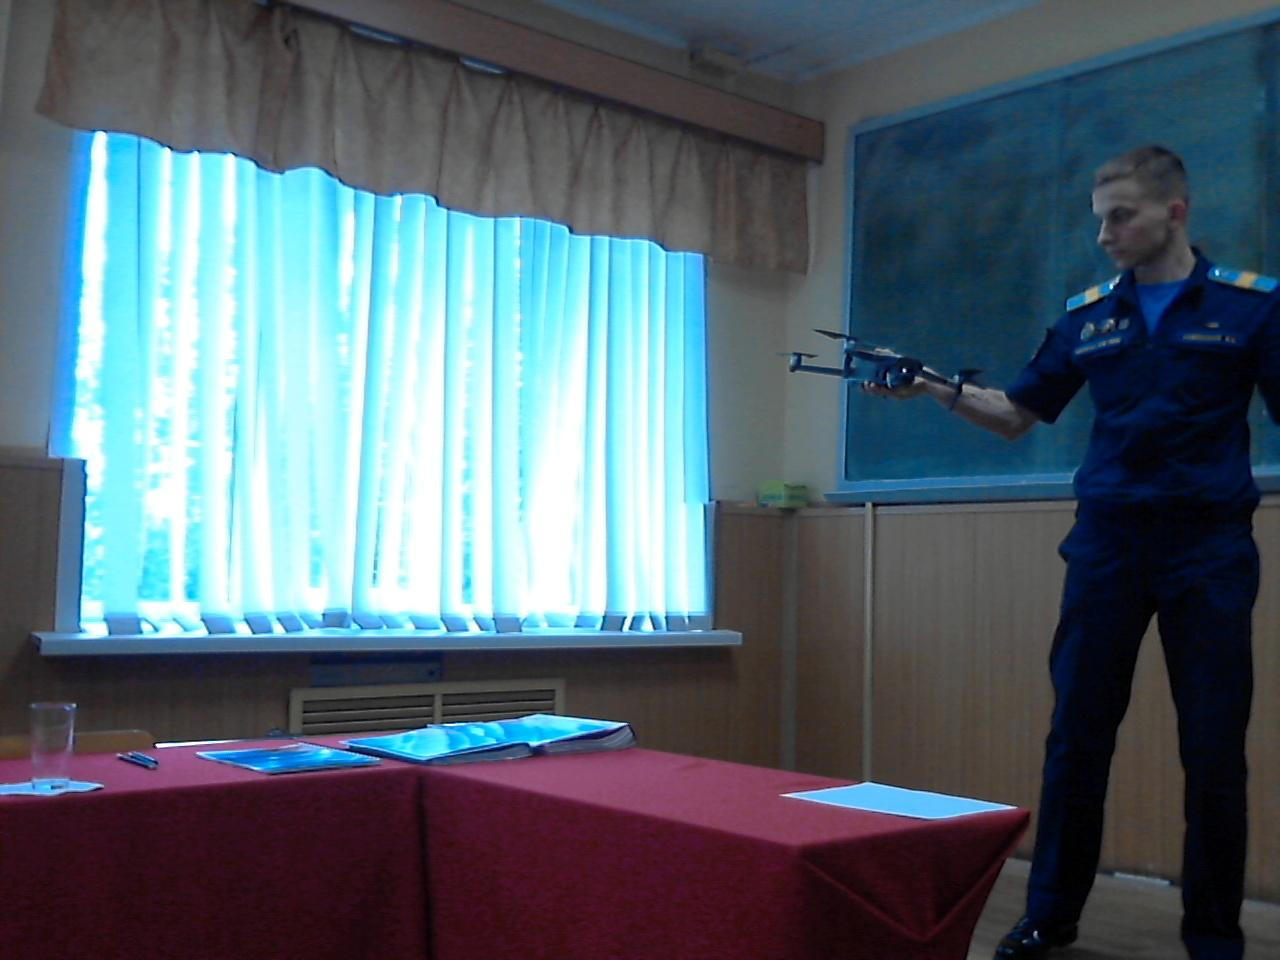drone: (750, 296, 999, 416)
